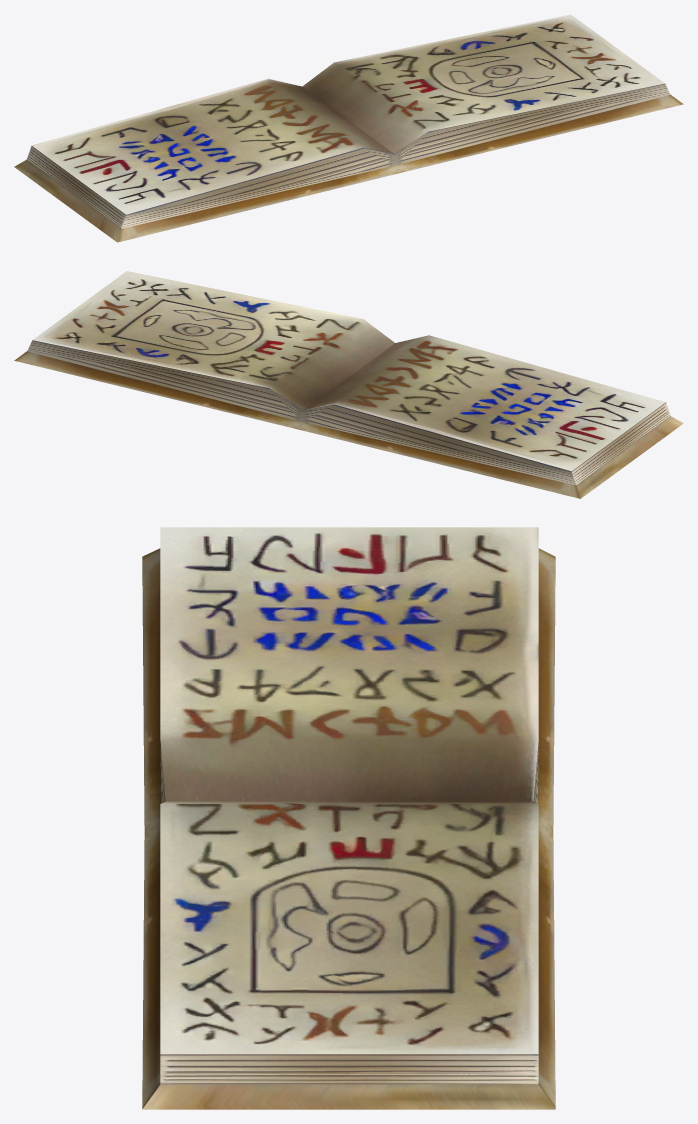
The model's file is booklargeopen01.obj.
The picture shows the model from 3 angles, top to bottom: view 1: azimuth 30°, elevation 25°; view 2: azimuth 150°, elevation 25°; view 3: azimuth 270°, elevation 25°; orthographic projection. The views are drawn at different scales.
Parts seen in each view (by area): view 1: booklargeopen01; view 2: booklargeopen01; view 3: booklargeopen01.
Boxes of the visible parts, <box> form: booklargeopen01: <box>14,14,683,242</box>; booklargeopen01: <box>14,271,683,498</box>; booklargeopen01: <box>142,527,555,1109</box>.
Size of the model in its own units: 2.37 by 0.122 by 0.7486.
1 material, 1 textured.
